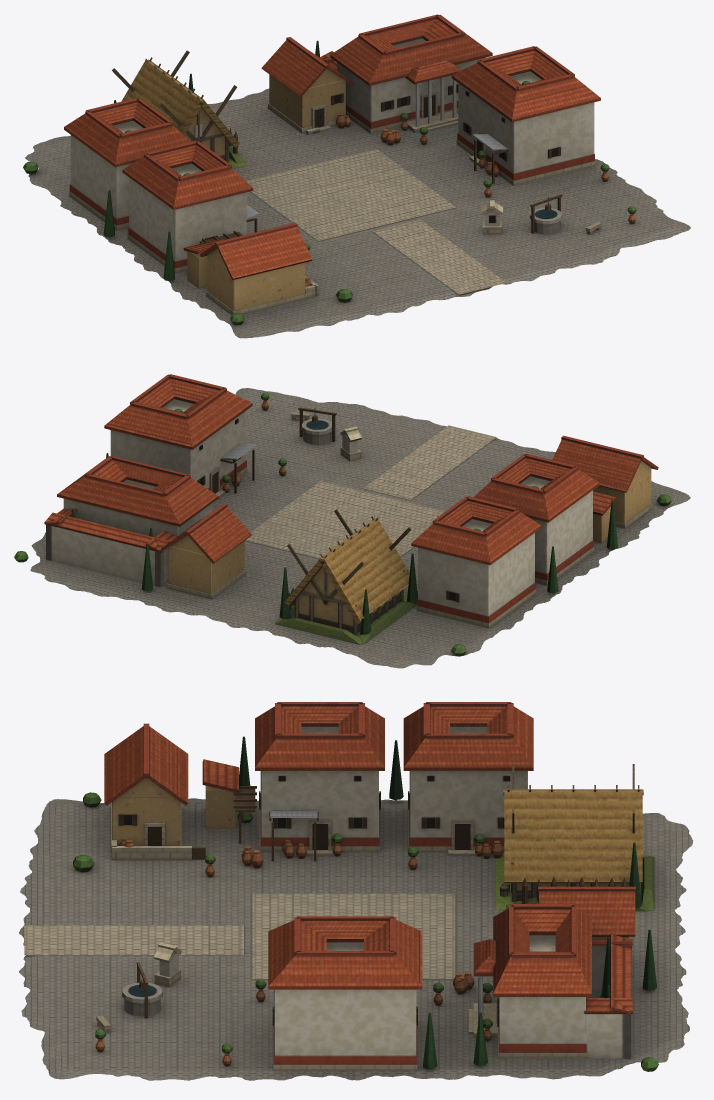
The model's file is classical-town-small-a-europenorth.glb.
3 views of the same model, one above another, from view 1: azimuth 30°, elevation 25°; view 2: azimuth 150°, elevation 25°; view 3: azimuth 270°, elevation 25° (orthographic). The views are drawn at different scales.
Visible parts, largest first — view 1: LOD0; view 2: LOD0; view 3: LOD0.
Part boxes in pixels (<box>): LOD0: <box>23,14,690,338</box>; LOD0: <box>14,374,690,668</box>; LOD0: <box>19,702,693,1080</box>.
Size of what is drawn, in the model's own units: 4.02 by 0.755 by 4.06.
3 materials, 3 textured.
